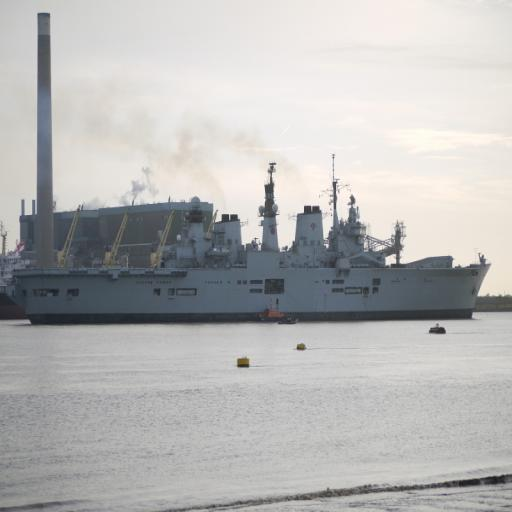Portanaves: (12, 145, 497, 330)
